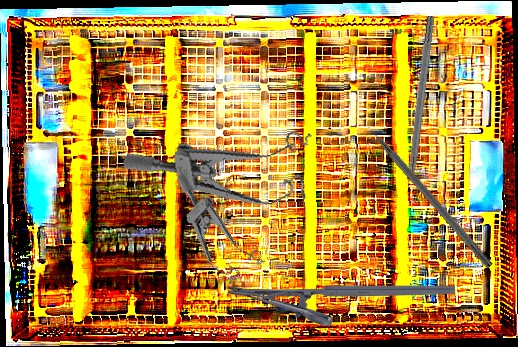Hook Surgical: (355, 111, 495, 270), (402, 15, 436, 198)
Needle Holder: (228, 284, 455, 327)
Speculum: (119, 114, 327, 236), (147, 171, 274, 293)
